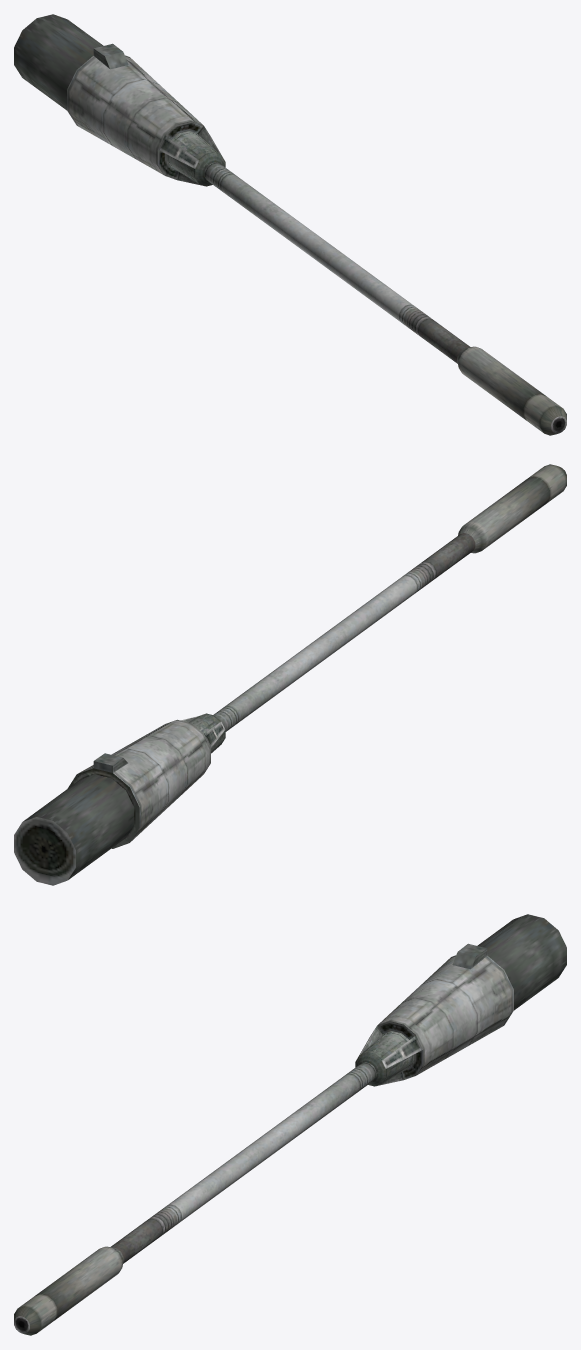
File: bwing_weapon2l_s05_l0.fbx
3 views of the same model, one above another, from view 1: azimuth 30°, elevation 25°; view 2: azimuth 150°, elevation 25°; view 3: azimuth 330°, elevation 25° (orthographic).
Visible parts, largest first — view 1: mesh_node; view 2: mesh_node; view 3: mesh_node.
Boxes of the visible parts, left/top/right/bottom form: mesh_node: left=14, top=14, right=566, bottom=435; mesh_node: left=14, top=464, right=566, bottom=885; mesh_node: left=14, top=914, right=566, bottom=1335.
Bounding box in the file's own units: 0.2552 × 0.2794 × 3.13.
1 material, 1 textured.
